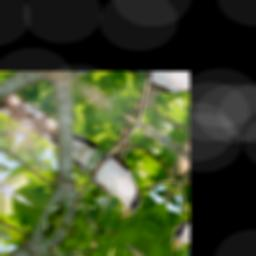Cuckoo: (11, 104, 156, 230)
